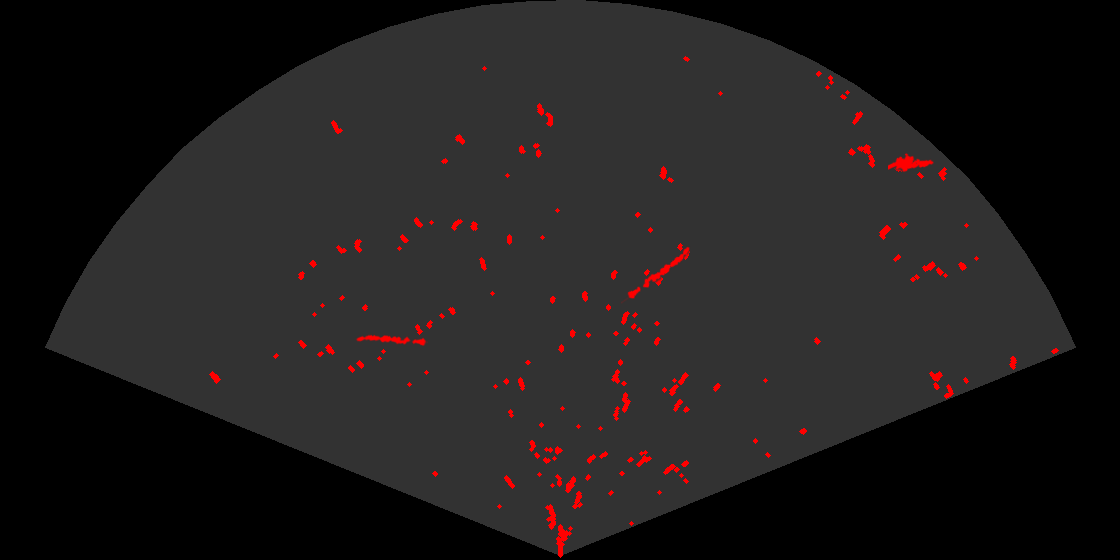chain: (621, 245, 691, 305), (355, 333, 428, 348)
frogman: (888, 151, 934, 174)
